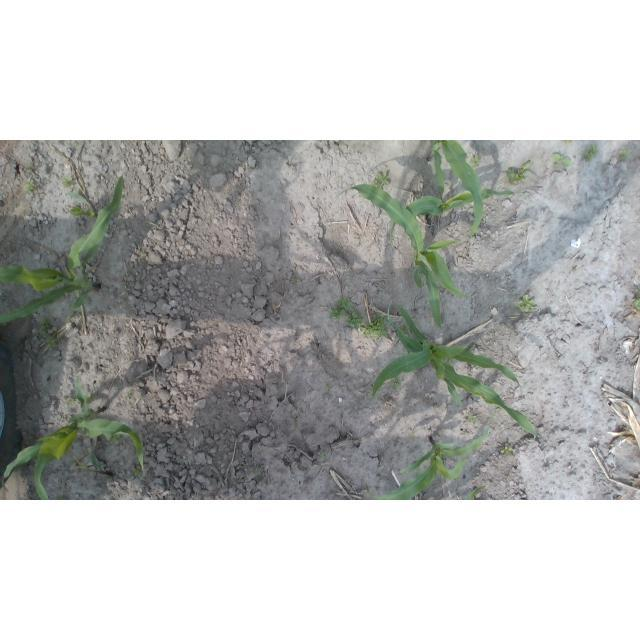Maize: (372, 305, 541, 444), (331, 181, 470, 331), (2, 171, 127, 327), (2, 374, 146, 500), (390, 148, 537, 256), (366, 408, 499, 499), (430, 140, 485, 238)
Weeds: (329, 295, 391, 341), (32, 321, 61, 353), (506, 161, 533, 187), (20, 166, 37, 190), (553, 151, 572, 169), (519, 295, 536, 312), (585, 144, 599, 161), (376, 170, 389, 186), (633, 285, 640, 312), (500, 444, 514, 455), (470, 154, 481, 167), (618, 150, 632, 160), (62, 177, 74, 187), (64, 397, 74, 407), (291, 275, 300, 286), (468, 415, 481, 421), (319, 453, 330, 460), (328, 384, 335, 394), (563, 140, 574, 146), (141, 252, 147, 262), (252, 468, 262, 474), (127, 393, 134, 400)
